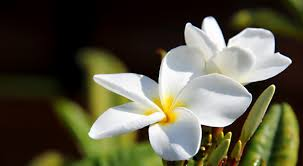frangipani: (88, 47, 252, 160)
